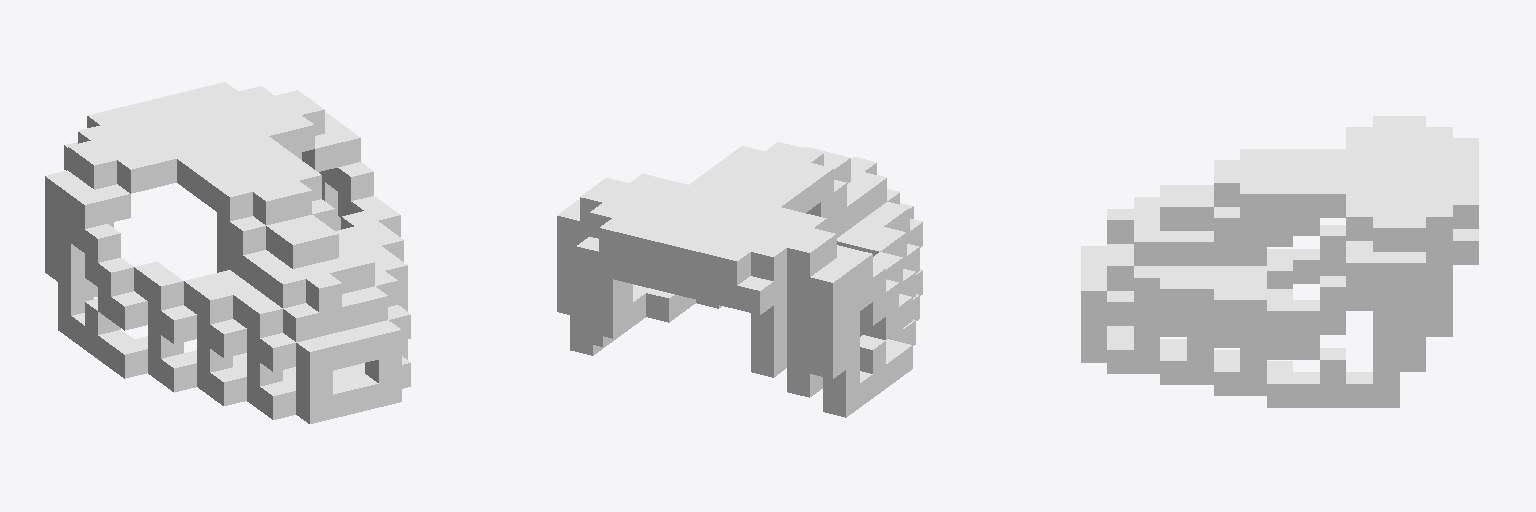
File: Cherepushka-0-CHEREPUSHKA.obj
3 renders of one model, left to right at view 1: azimuth 30°, elevation 25°; view 2: azimuth 150°, elevation 25°; view 3: azimuth 270°, elevation 25°, orthographic.
Parts seen in each view (by area): view 1: CHEREPUSHKA; view 2: CHEREPUSHKA; view 3: CHEREPUSHKA.
Part boxes in pixels (left/top/right/bottom): CHEREPUSHKA: left=45, top=82, right=410, bottom=423; CHEREPUSHKA: left=557, top=142, right=922, bottom=417; CHEREPUSHKA: left=1081, top=116, right=1478, bottom=407.
Bounding box in the file's own units: 1.2 × 0.7 × 1.5.